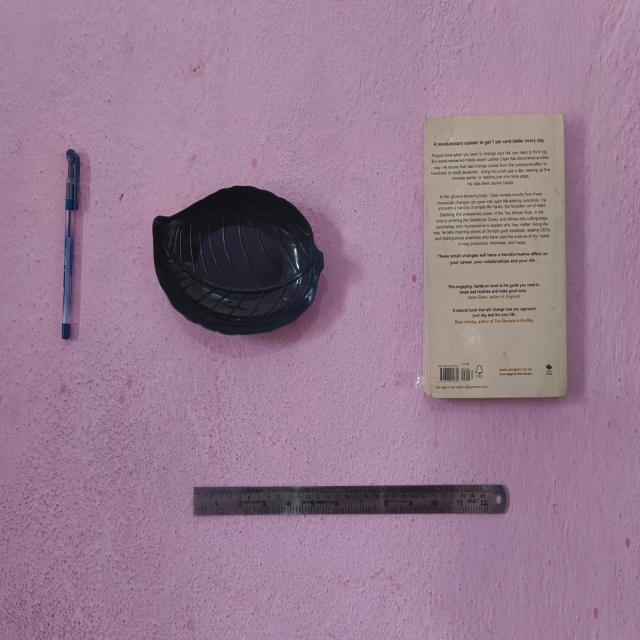Book: (418, 107, 575, 400)
blessing_card: (53, 144, 84, 348)
pen: (151, 186, 327, 336), (192, 477, 513, 521)
